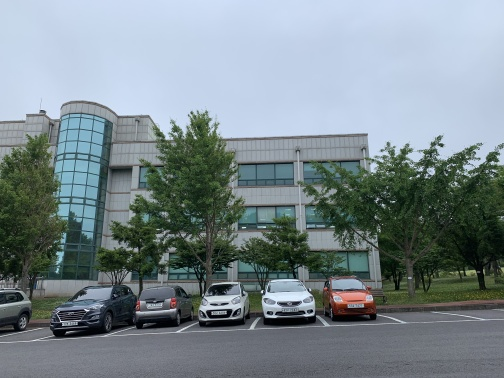Second Library: (1, 101, 385, 293)
